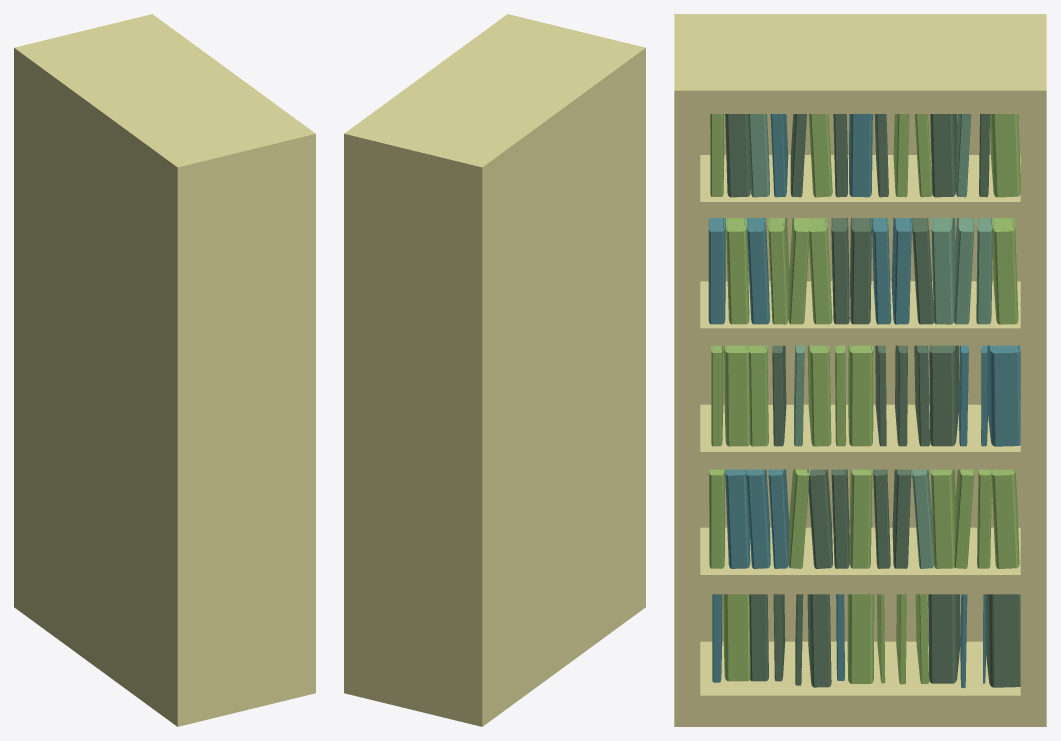
The model's file is SKAFFMNOGOBOOK.fbx.
3 renders of one model, left to right at view 1: azimuth 30°, elevation 25°; view 2: azimuth 150°, elevation 25°; view 3: azimuth 270°, elevation 25°, orthographic. The views are drawn at different scales.
Visible parts, largest first — view 1: SHKAFF(KNYGY).001; view 2: SHKAFF(KNYGY).001; view 3: SHKAFF(KNYGY).001.
Part boxes in pixels (left/top/right/bottom): SHKAFF(KNYGY).001: left=14, top=14, right=315, bottom=726; SHKAFF(KNYGY).001: left=344, top=14, right=645, bottom=726; SHKAFF(KNYGY).001: left=674, top=14, right=1046, bottom=726.
Size of the model in its own units: 181 by 699 by 371.
